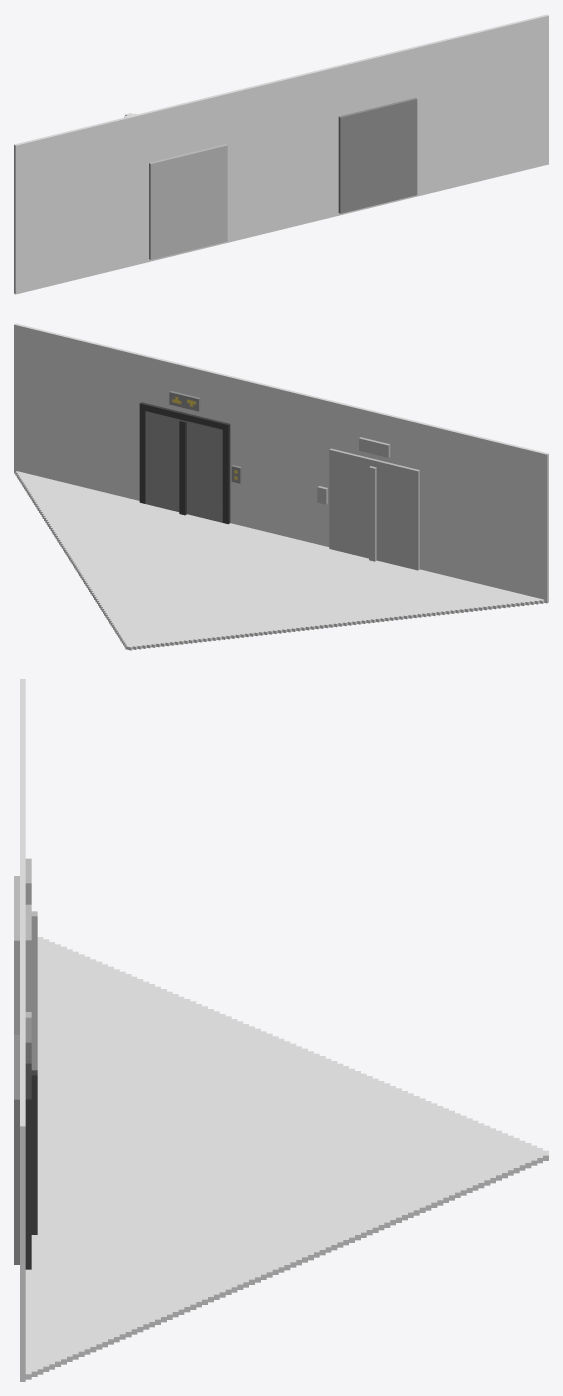
Rendered from BlankFile 2.obj.
3 renders of one model, top to bottom at view 1: azimuth 30°, elevation 25°; view 2: azimuth 150°, elevation 25°; view 3: azimuth 270°, elevation 25°, orthographic. The views are drawn at different scales.
Parts seen in each view (by area): view 1: object 1, _2, _1; view 2: object 1, _2, _1; view 3: object 1, _2, _1.
Part boxes in pixels (x1,y1,x2,y2): object 1: (14,14,548,294); _2: (338,98,417,213); _1: (149,144,227,259); object 1: (14,323,548,650); _2: (139,391,241,524); _1: (317,437,419,570); object 1: (20,679,548,1381); _2: (14,1017,37,1269); _1: (14,858,37,1070).
Size of the model in its own units: 180 by 48 by 91.
